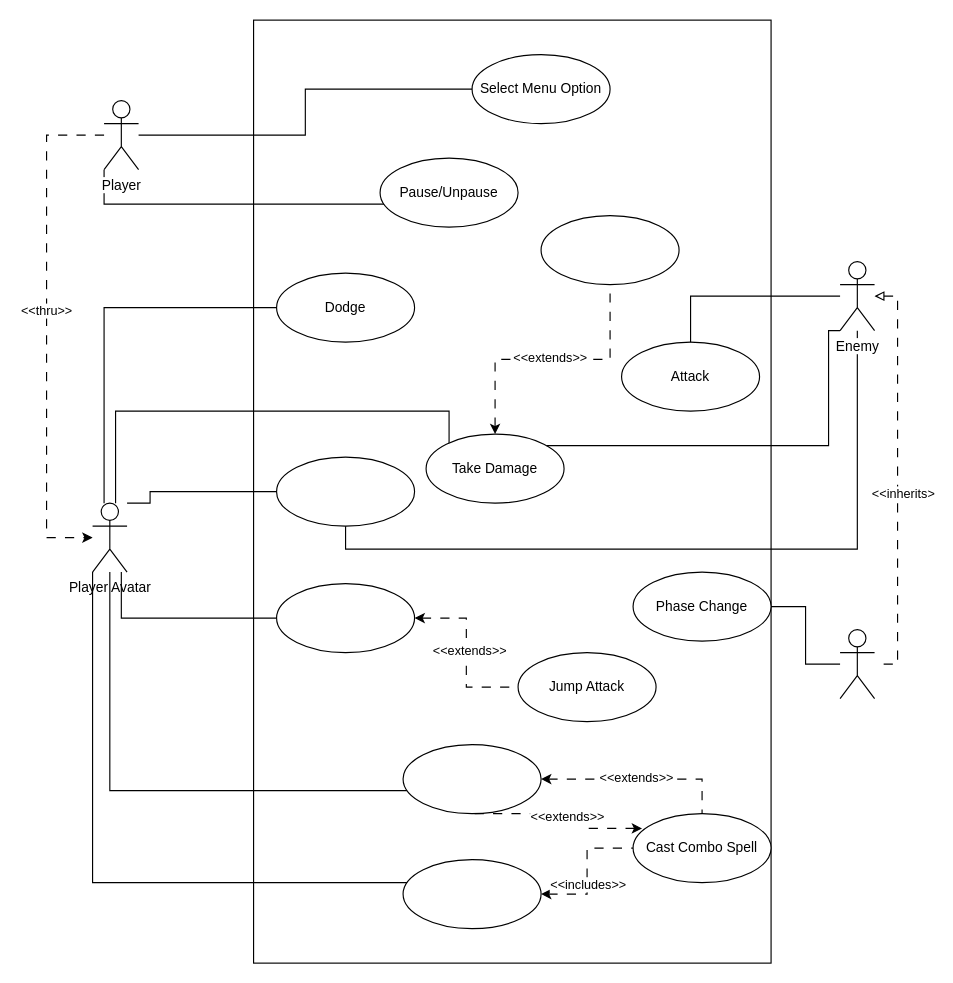
Some shapes in this 953 by 983 pixel diagram are drawn without their labels. The shapes that lost their labels are listed below. From the top down, each one's box as (x1, y1, x2, y2) in pixels, then its label:
(540, 214, 679, 285): Die
(275, 456, 415, 526): Move
(275, 582, 415, 653): Jump
(839, 628, 875, 699): Boss Enemy
(402, 743, 541, 814): Basic Attack
(402, 858, 541, 929): Cast Spell
